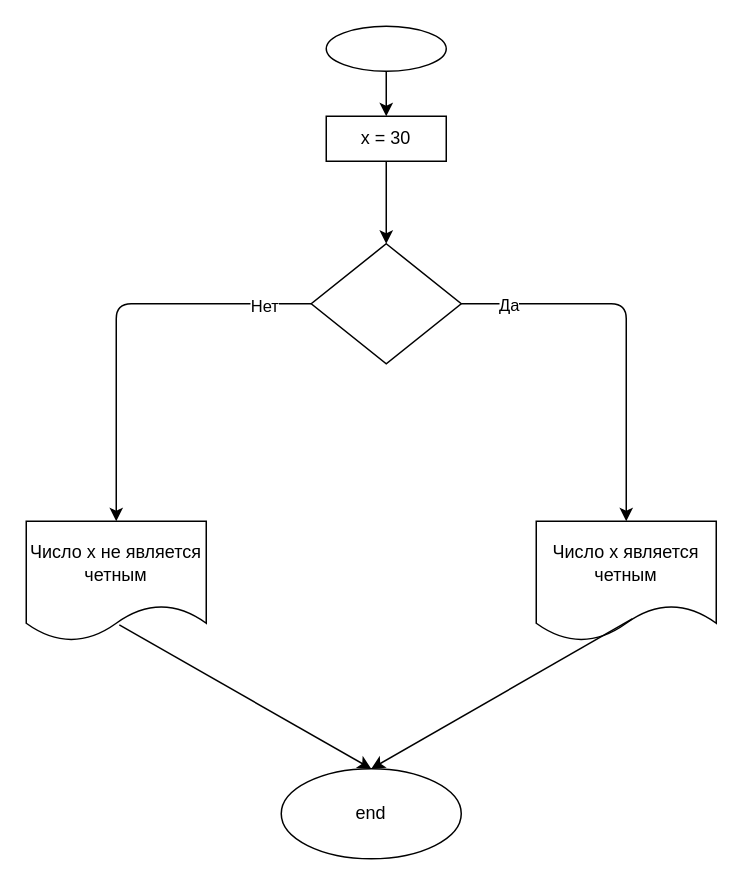
The diagram is 743 pixels wide and 885 high, and some of its shapes have lost their labels. The box of each missing label's shape, as (x1, y1, x2, y2) in pixels:
start: (325, 25, 446, 71)
x mod 2 == 0: (310, 242, 461, 364)
